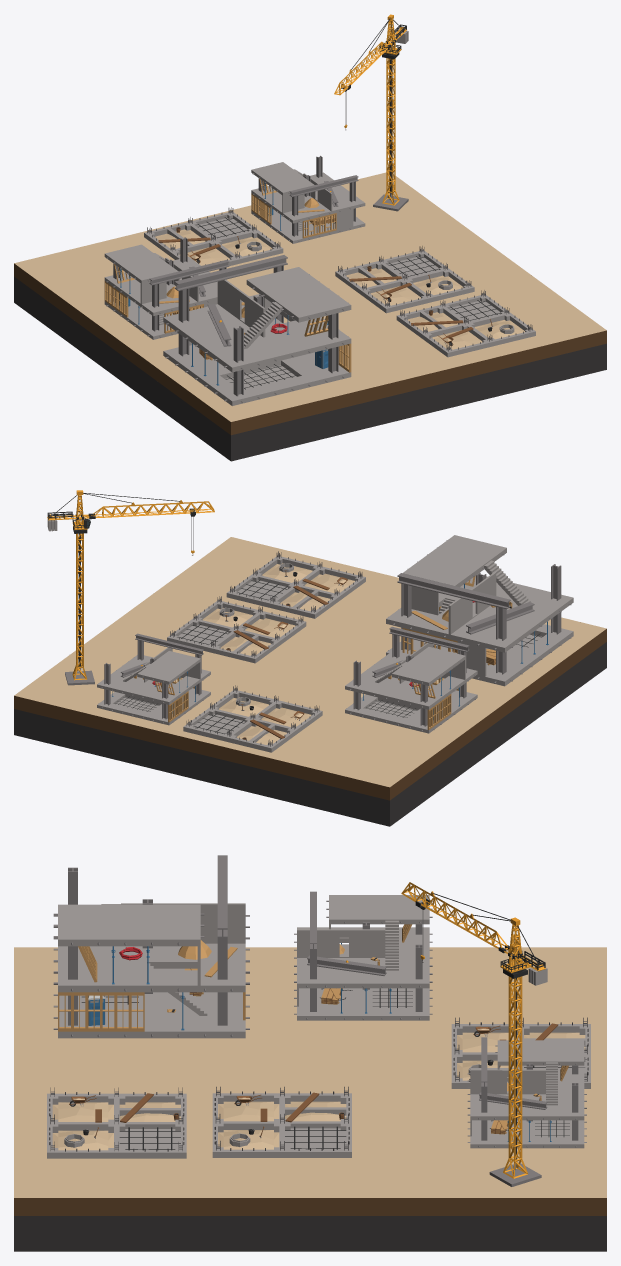
Rendered from POIConstruction.glb.
The picture shows the model from 3 angles, top to bottom: view 1: azimuth 30°, elevation 25°; view 2: azimuth 150°, elevation 25°; view 3: azimuth 270°, elevation 25°; orthographic projection. The views are drawn at different scales.
Visible parts, largest first — view 1: Stage, contruction-large-base (×3), contruction-small-base (×3), contruction-large-props (×3), crane-tower-base, crane-tower-top; view 2: Stage, contruction-large-base (×3), contruction-small-base (×3), contruction-large-props (×3), crane-tower-top, crane-tower-base, contruction-small-props (×3); view 3: Stage, contruction-large-base (×3), contruction-small-base (×3), contruction-large-props (×3), crane-tower-base, crane-tower-top, contruction-small-props (×2).
Part boxes in pixels (x1,y1,x2,y2): Stage: [14, 172, 606, 461]; contruction-large-base (×3): [104, 155, 365, 405]; contruction-small-base (×3): [144, 207, 535, 357]; contruction-large-props (×3): [104, 178, 351, 385]; crane-tower-base: [373, 47, 408, 211]; crane-tower-top: [334, 14, 408, 95]; Stage: [14, 537, 606, 826]; contruction-large-base (×3): [97, 535, 573, 733]; contruction-small-base (×3): [167, 551, 365, 752]; contruction-large-props (×3): [112, 576, 548, 729]; crane-tower-top: [47, 490, 214, 531]; crane-tower-base: [65, 522, 94, 685]; contruction-small-props (×3): [219, 563, 347, 739]; Stage: [14, 947, 606, 1251]; contruction-large-base (×3): [53, 855, 586, 1148]; contruction-small-base (×3): [47, 1017, 590, 1158]; contruction-large-props (×3): [58, 924, 568, 1141]; crane-tower-base: [489, 962, 541, 1186]; crane-tower-top: [401, 882, 547, 985]; contruction-small-props (×2): [64, 1092, 343, 1147].
Size of the model in its own units: 15.23 by 8.8 by 15.23.
